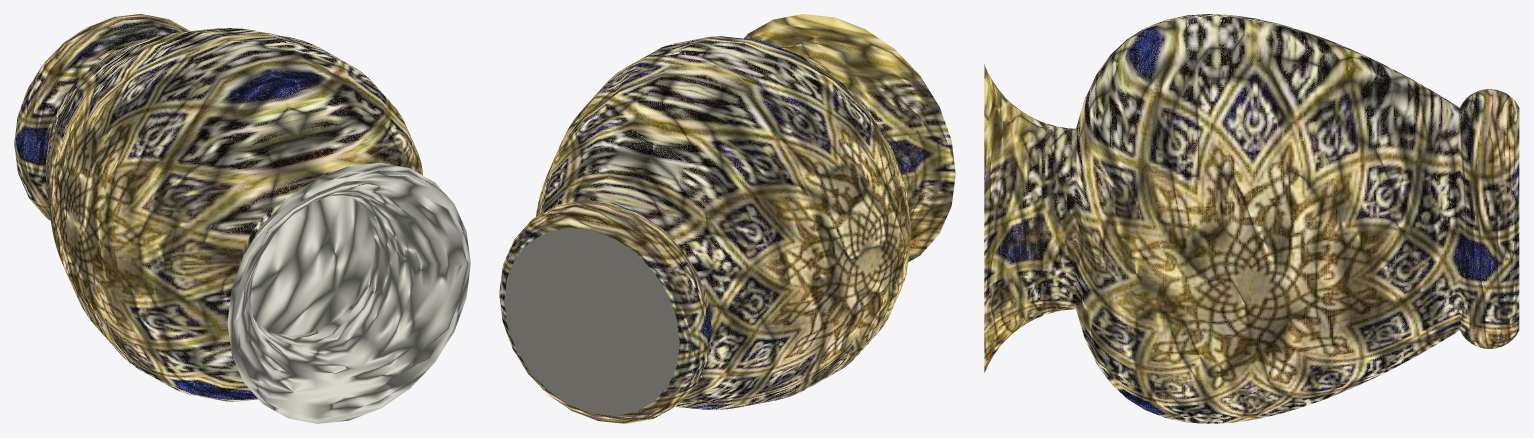
The model's file is model_align.obj.
The picture shows the model from 3 angles, left to right: view 1: azimuth 30°, elevation 25°; view 2: azimuth 150°, elevation 25°; view 3: azimuth 270°, elevation 25°; orthographic projection. The views are drawn at different scales.
Size of the model in its own units: 0.0874 by 0.0874 by 0.1137.
Materials: 3 (3 with a texture image).
